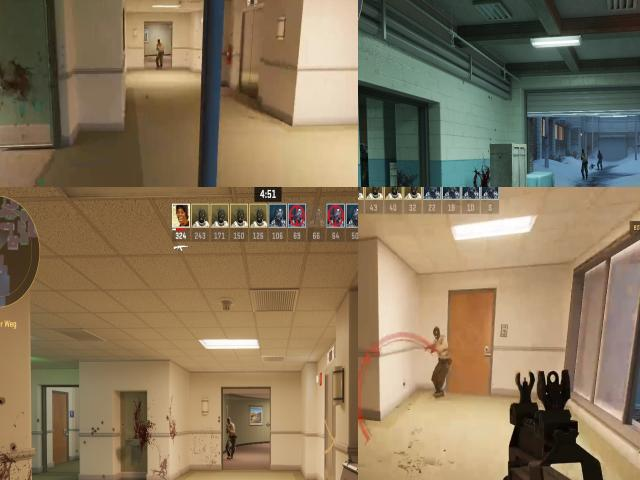CT: (597, 150, 603, 170)
CT-Head: (598, 150, 601, 155)
T: (429, 324, 453, 390), (225, 417, 237, 458), (154, 37, 165, 69), (580, 148, 588, 180), (156, 38, 163, 48)
T-Head: (430, 325, 445, 342), (227, 417, 233, 426), (582, 149, 586, 155)
